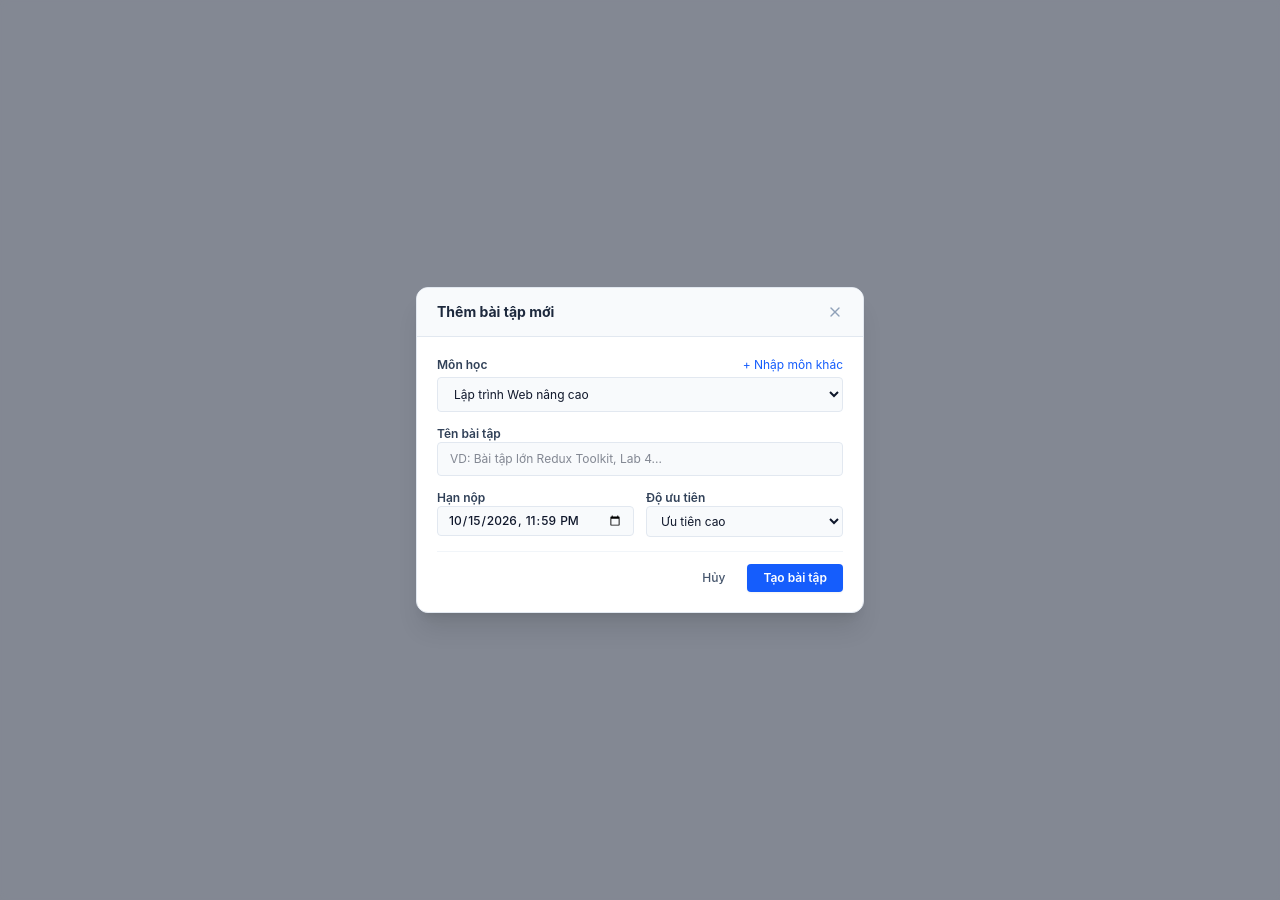
Test: PHẦN C - COMPONENT TESTS (RTL + userEvent) (Tối thiểu 4 test cases) › Component Test 4: Form thêm bài tập hiển thị lỗi validate khi để trống tên bài tập
The image size is (1280, 900).
Bấm nút Tạo bài tập khi title rỗng
Click the button "Tạo bài tập": [795, 578] box [747, 564, 843, 592]
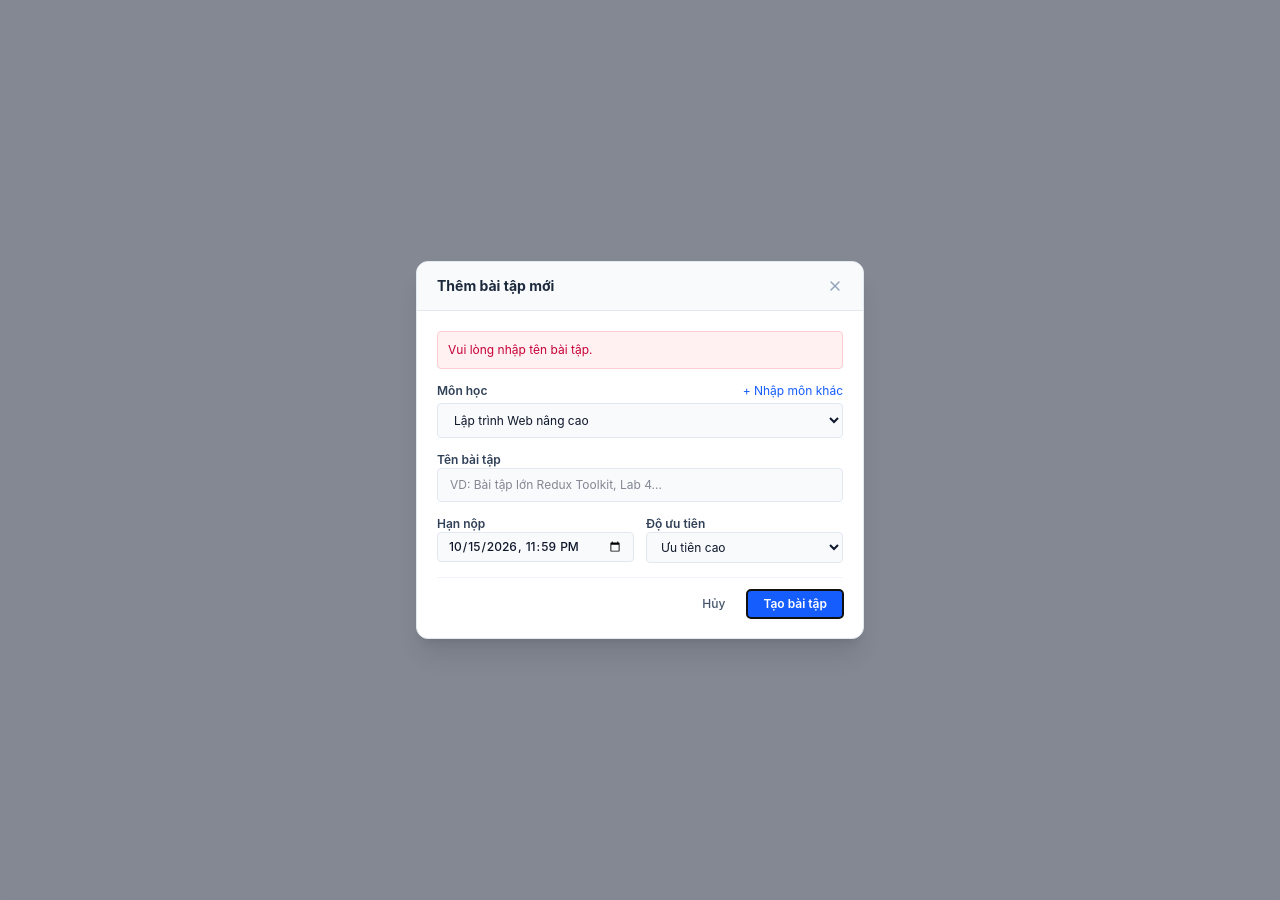
Now the text with test id "form-error" reads "Vui lòng nhập tên bài tập.", box [448, 342, 592, 357]
